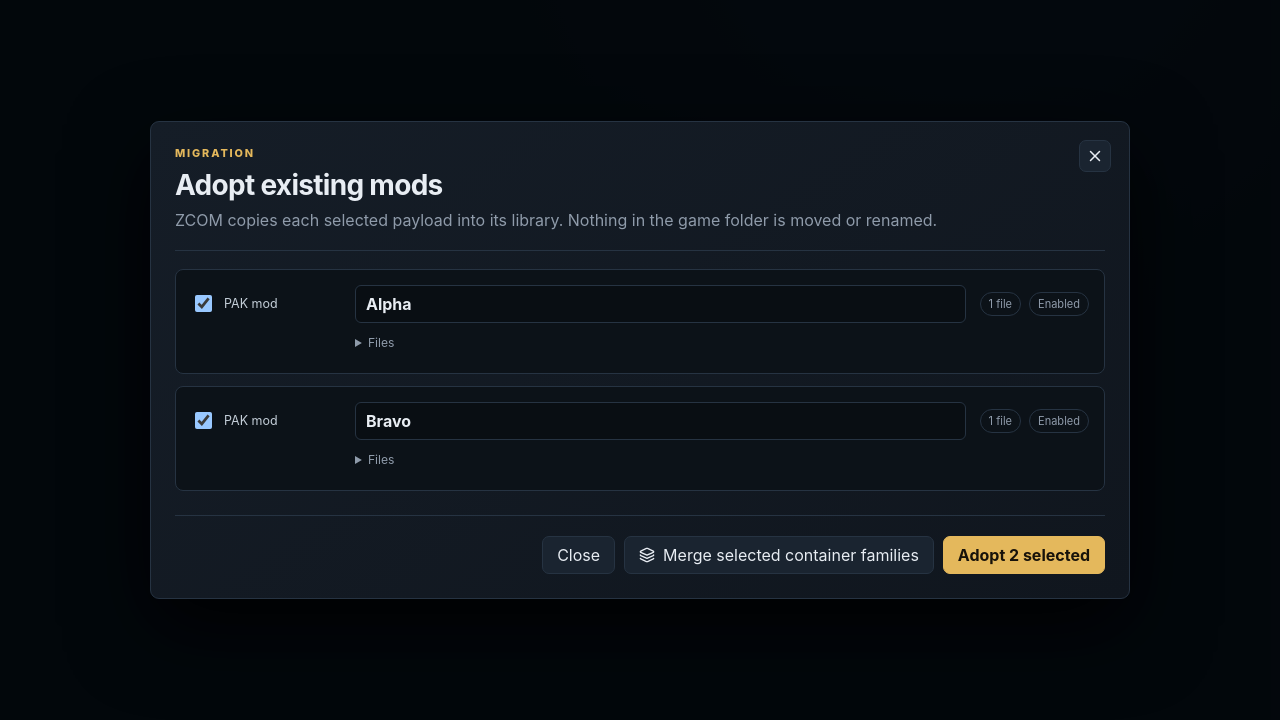
Scenario: adoption dialog › keeps failed groups available after successful groups are adopted
Click the button "Adopt 2 selected" at {"x": 1024, "y": 555}, box left=943, top=536, right=1105, bottom=574
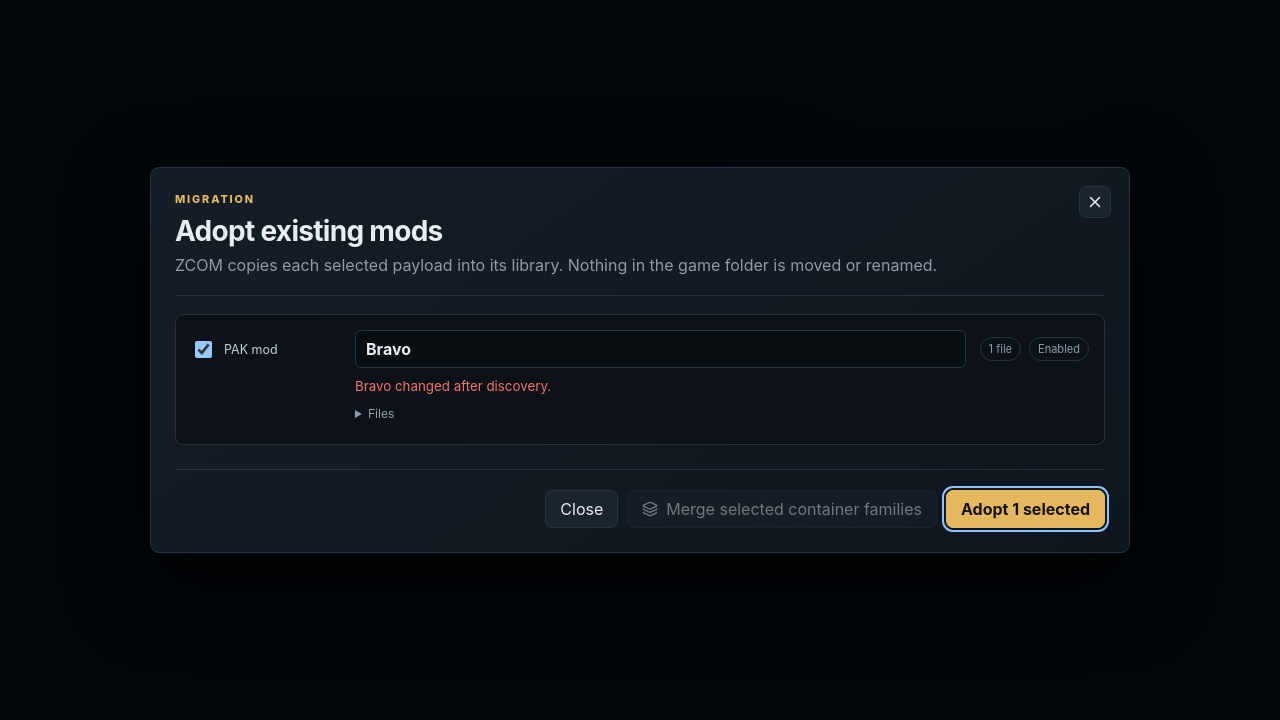
Expected: the field named "Name for Bravo" is shown, left=355, top=330, right=966, bottom=368
Expected: the message reads "Bravo changed after discovery.", left=355, top=378, right=551, bottom=394
